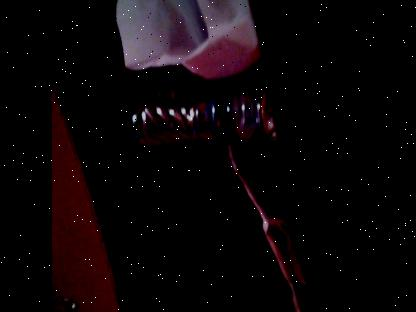Plastic Bottle: (108, 81, 286, 152)
